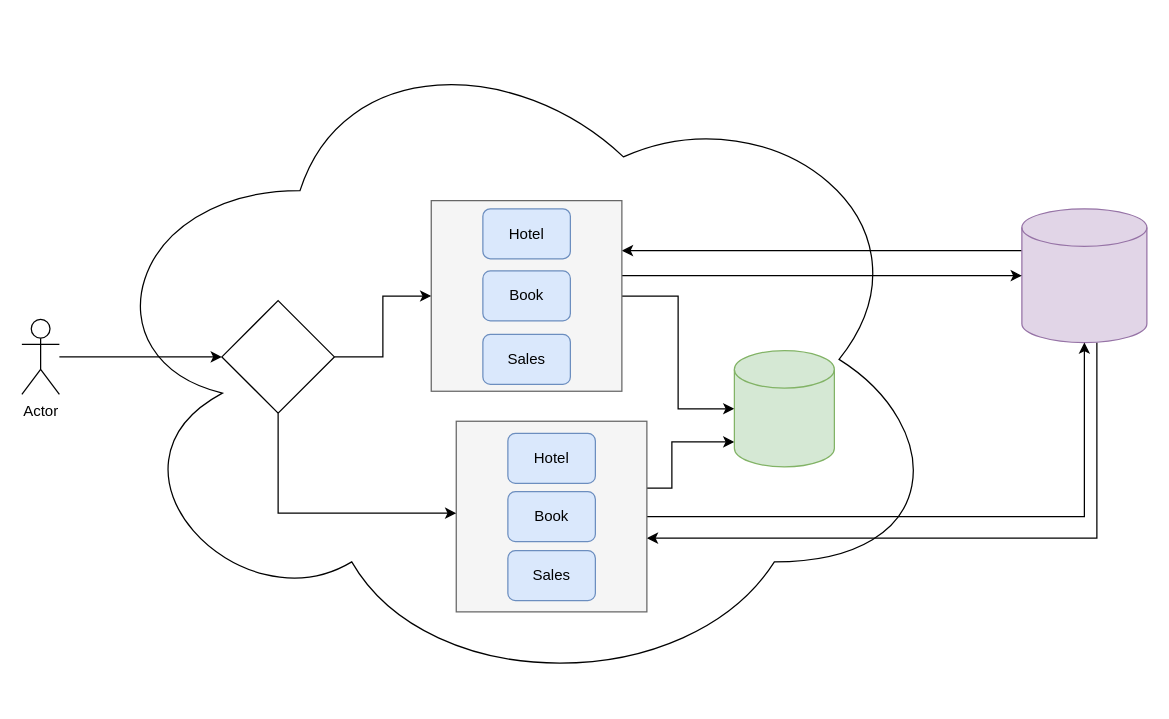
Image size: 1169x719. Some labels were removed from this diagram. The centre of each missing label's shape, as x and y in pixels:
"Cache" goes at point 783,408.
"Database" goes at point 1084,275.
"LoadBalancer" goes at point 277,356.
